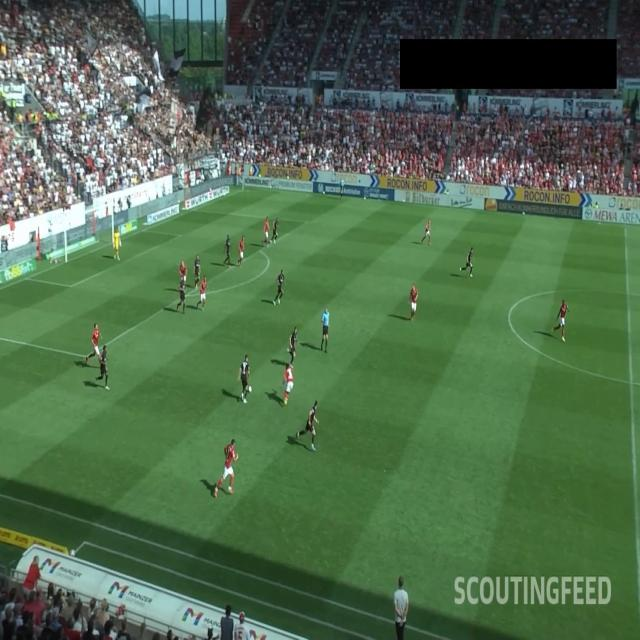ball: (248, 385, 253, 393)
